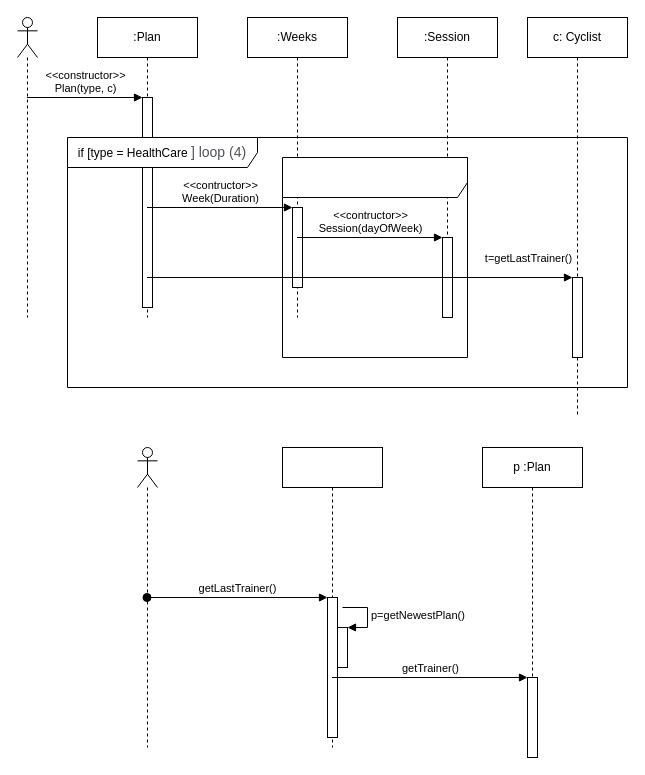
This 645x775 diagram has some shape labels left out. Each missing label, with the box of its shape:
:Cyclist: (282, 446, 382, 748)
loop (dayOfWeek =1,3,5): (282, 156, 468, 358)
